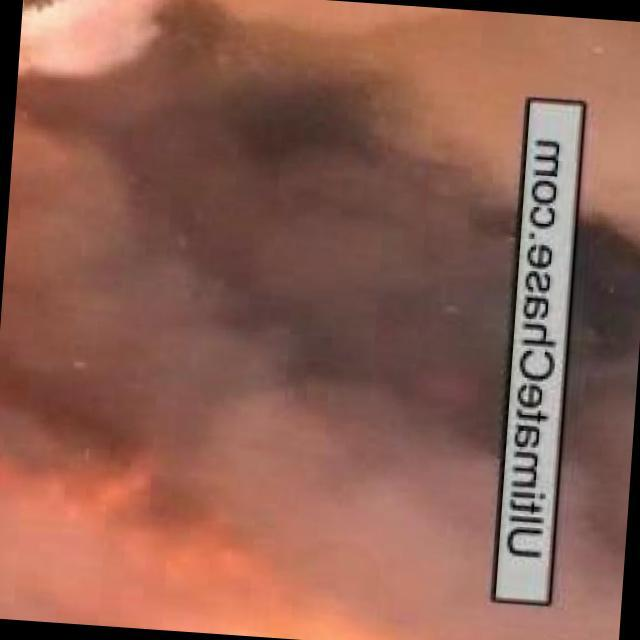Fire: (1, 458, 468, 640)
